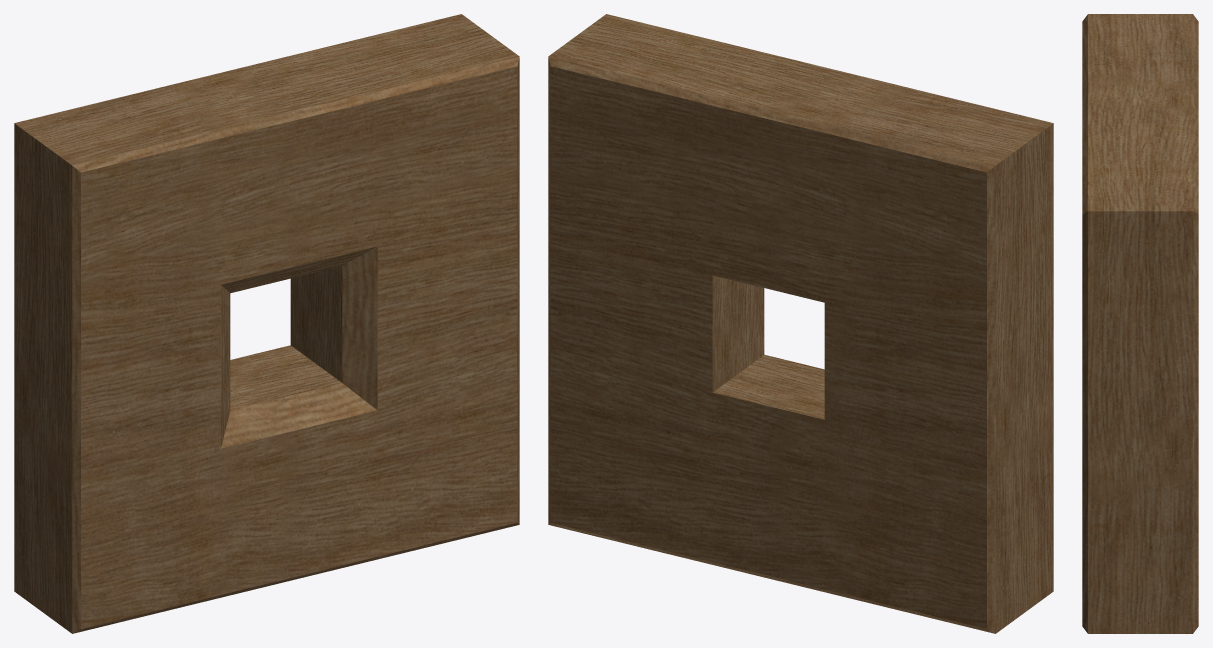
File: hole_board_vis.obj
3 renders of one model, left to right at view 1: azimuth 30°, elevation 25°; view 2: azimuth 150°, elevation 25°; view 3: azimuth 270°, elevation 25°, orthographic. The views are drawn at different scales.
Bounding box in the file's own units: 0.12 × 0.12 × 0.03.
1 material, 1 textured.
